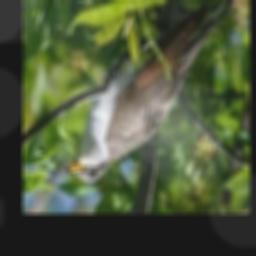Cuckoo: (66, 5, 217, 184)
